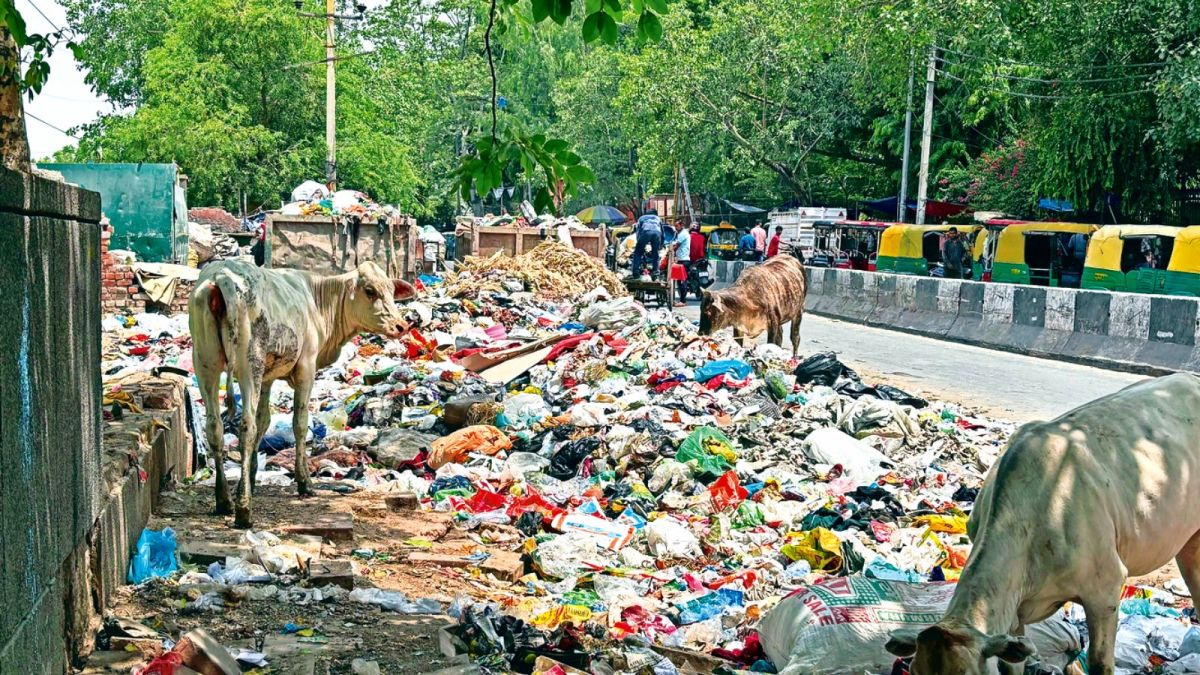Garbage: (574, 205, 630, 227)
